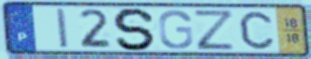2: (80, 8, 114, 50)
C: (237, 10, 276, 51)
G: (157, 9, 195, 51)
I: (54, 7, 71, 50)
S: (112, 7, 159, 52)
Z: (192, 8, 237, 52)
